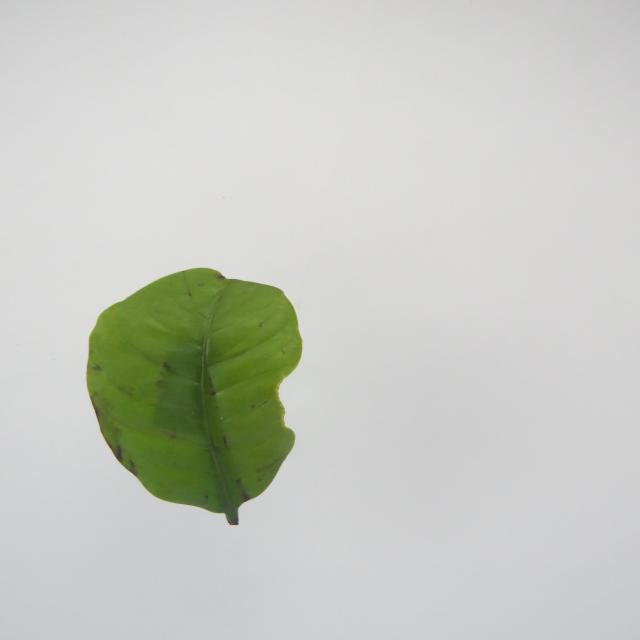DeficienciaNutricional-Boro: (87, 268, 302, 525)
